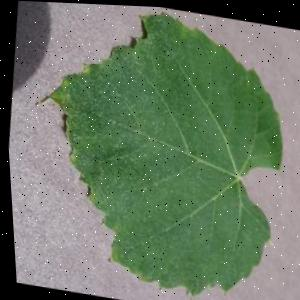Folha: (7, 0, 300, 300)
